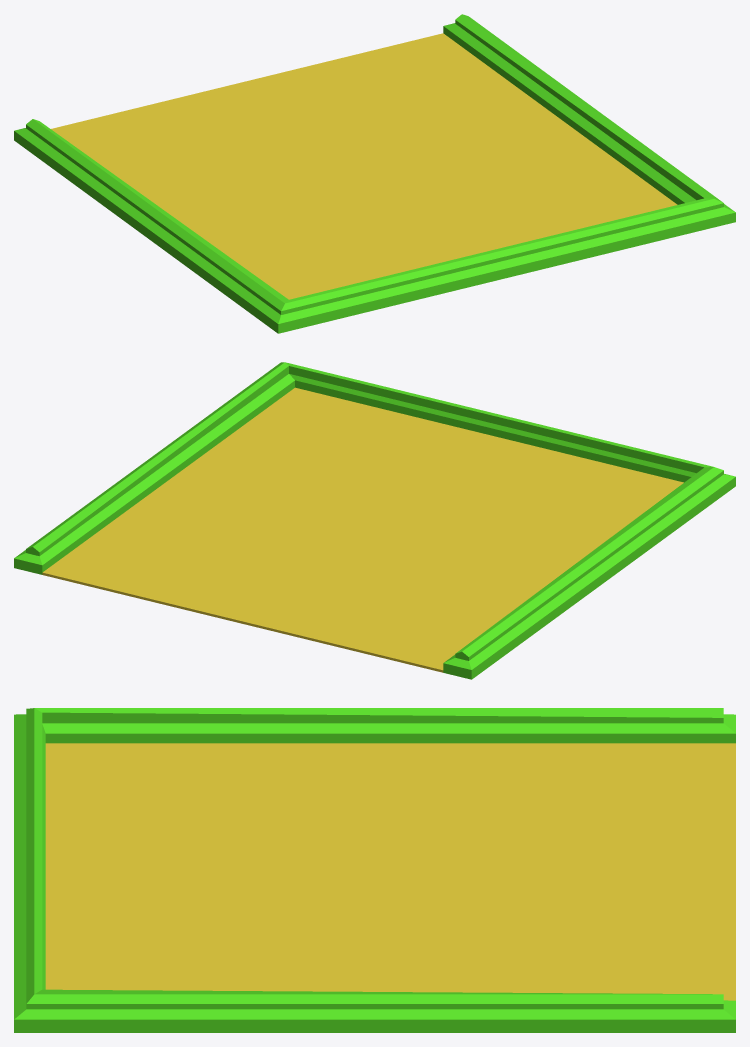
The model's file is Barreira.fbx.
3 views of the same model, one above another, from view 1: azimuth 30°, elevation 25°; view 2: azimuth 150°, elevation 25°; view 3: azimuth 270°, elevation 25° (orthographic). The views are drawn at different scales.
Parts seen in each view (by area): view 1: Campo_1; view 2: Campo_1; view 3: Campo_1.
Boxes of the visible parts, left/top/right/bottom form: Campo_1: left=14, top=14, right=735, bottom=333; Campo_1: left=14, top=362, right=735, bottom=679; Campo_1: left=14, top=708, right=735, bottom=1032.
Size of the model in its own units: 4000 by 179 by 4000.
